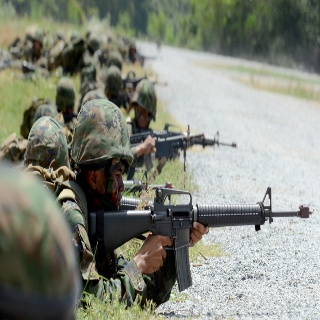rifle: (86, 185, 314, 295)
